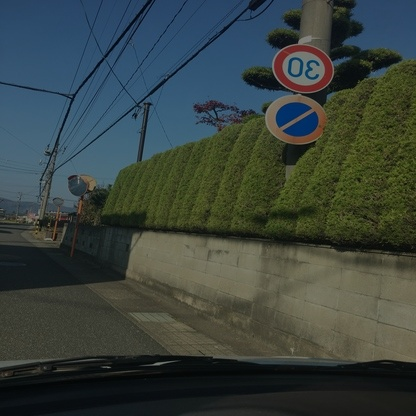Prohibition_sign: (261, 91, 331, 150)
Speed_sign: (272, 42, 339, 95)
